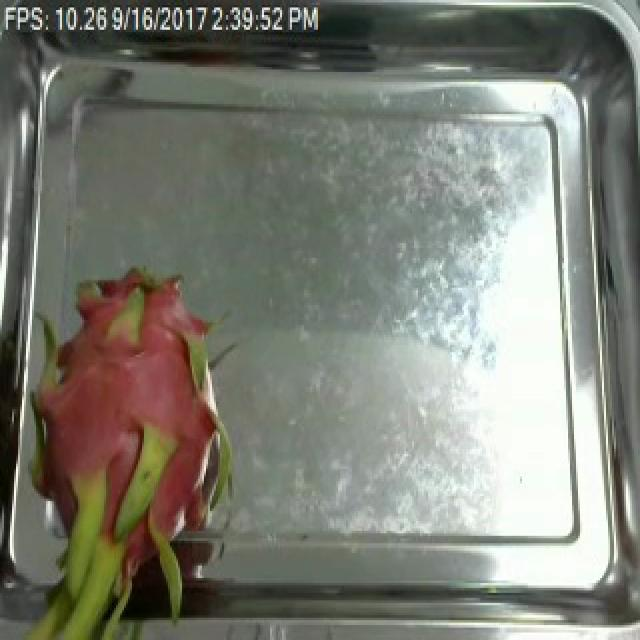fruit: (0, 258, 266, 640)
